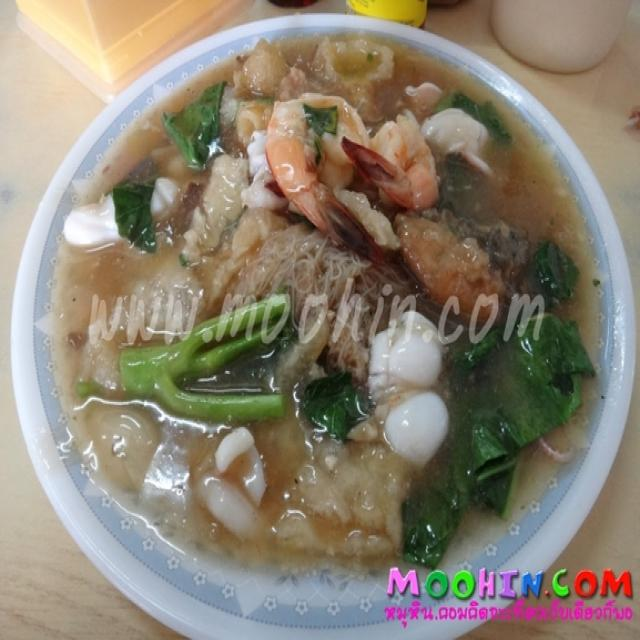面条主食: (61, 41, 588, 552)
